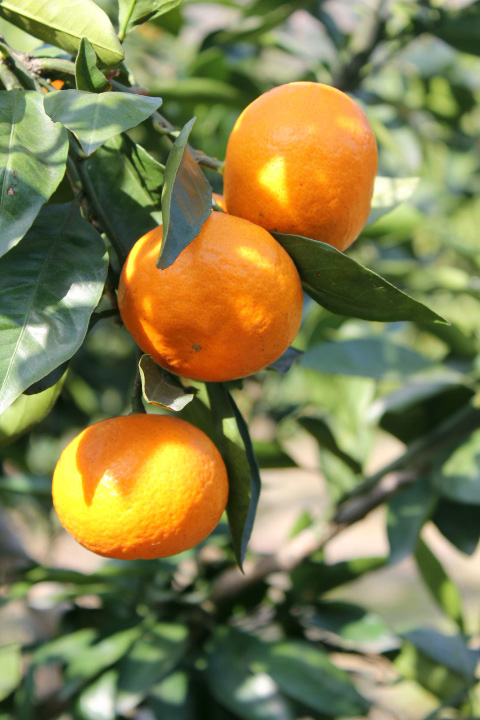orange: (117, 217, 303, 382), (222, 78, 380, 258), (51, 413, 230, 560)
